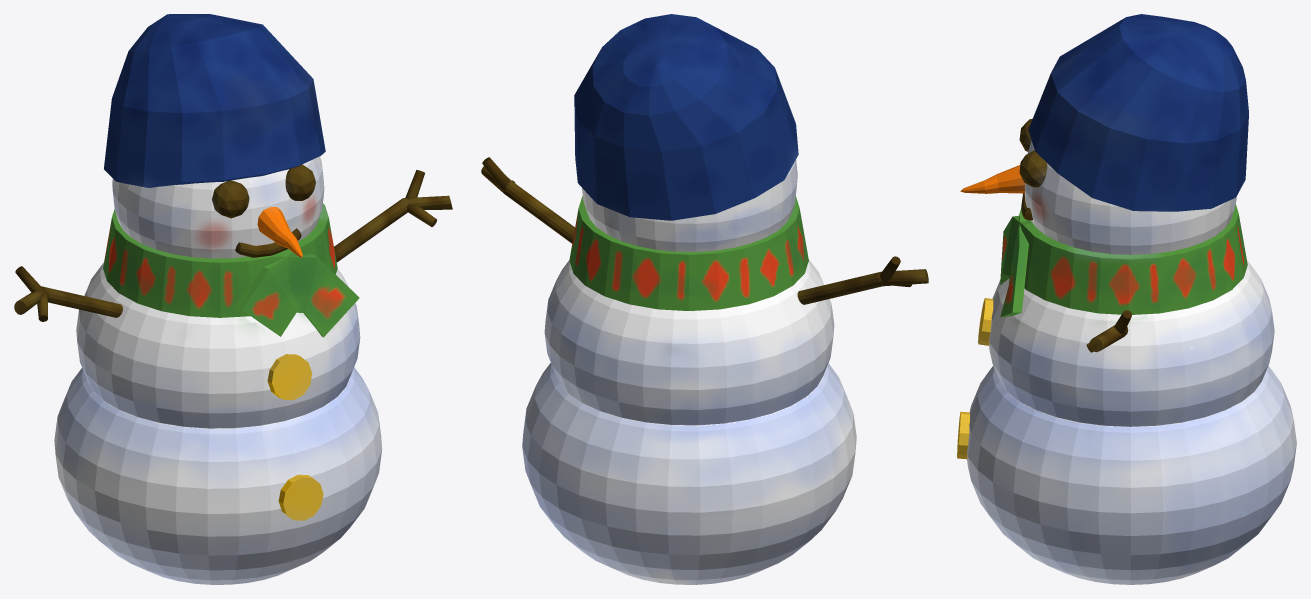
The model's file is snowman.fbx.
3 renders of one model, left to right at view 1: azimuth 30°, elevation 25°; view 2: azimuth 150°, elevation 25°; view 3: azimuth 270°, elevation 25°, orthographic. The views are drawn at different scales.
Parts seen in each view (by area): view 1: Snowman; view 2: Snowman; view 3: Snowman.
Boxes of the visible parts, box(x1,y1,x2,y2) form: Snowman: box(14, 14, 452, 584); Snowman: box(481, 14, 928, 584); Snowman: box(957, 14, 1296, 584).
Bounding box in the file's own units: 3.07 × 3.59 × 2.05.
1 material, 1 textured.
